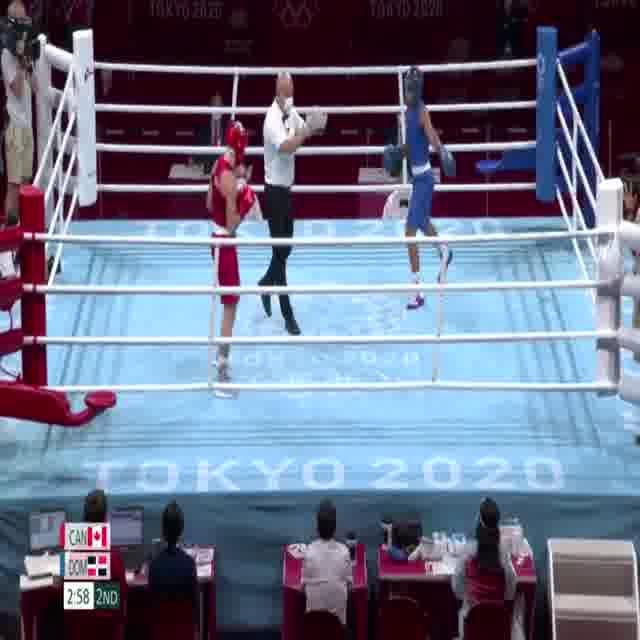blue-player: (379, 64, 458, 313)
red-player: (202, 116, 257, 398)
referee: (254, 66, 329, 337)
